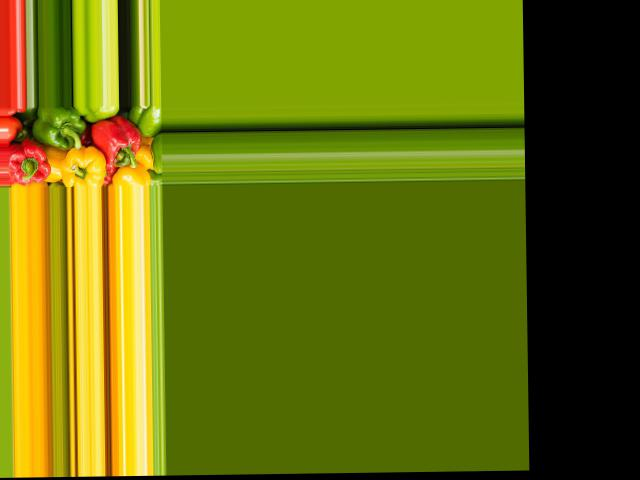bell_pepper: (9, 138, 56, 185)
